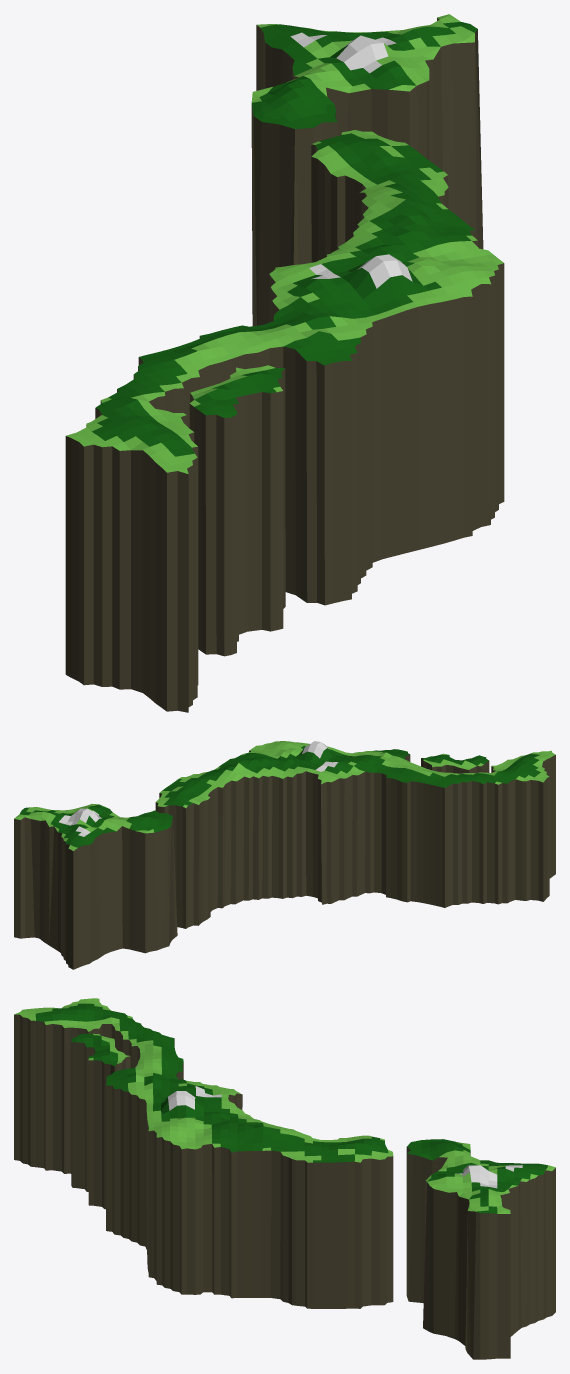
Rendered from world_map_japan.fbx.
3 renders of one model, top to bottom at view 1: azimuth 30°, elevation 25°; view 2: azimuth 150°, elevation 25°; view 3: azimuth 270°, elevation 25°, orthographic. The views are drawn at different scales.
Visible parts, largest first — view 1: japan; view 2: japan; view 3: japan.
Part boxes in pixels (left/top/right/bottom): japan: left=65, top=14, right=504, bottom=712; japan: left=14, top=741, right=555, bottom=969; japan: left=14, top=998, right=555, bottom=1359.
Bounding box in the file's own units: 194 × 69.84 × 206.
